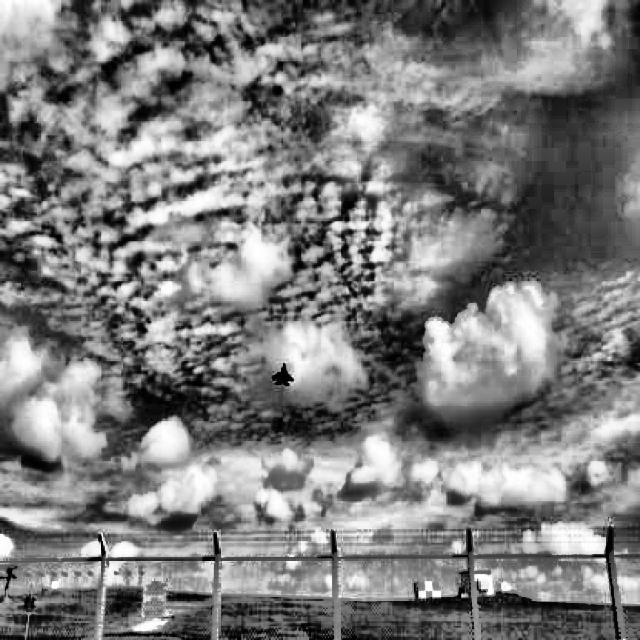F15: (270, 362, 295, 387)
